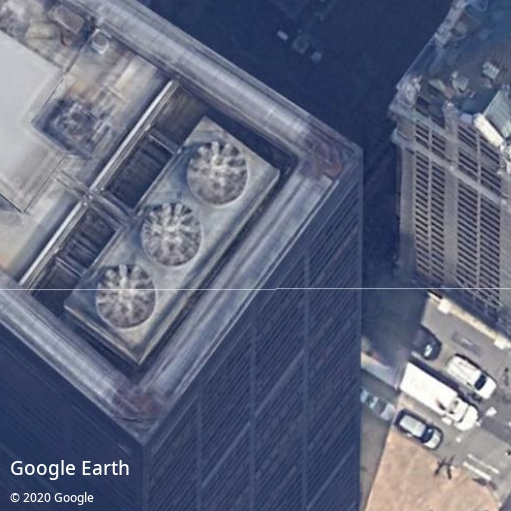Vent: (94, 265, 158, 331), (186, 140, 249, 207), (141, 203, 203, 268)
